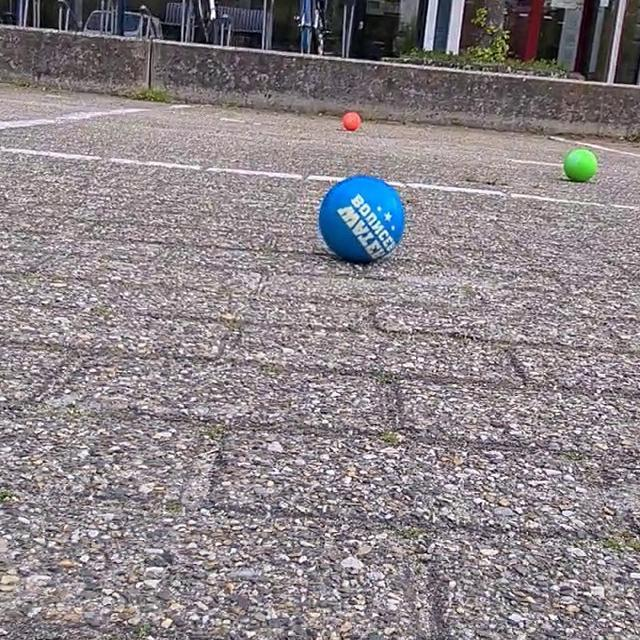ball: (560, 144, 599, 185), (340, 107, 363, 134)
